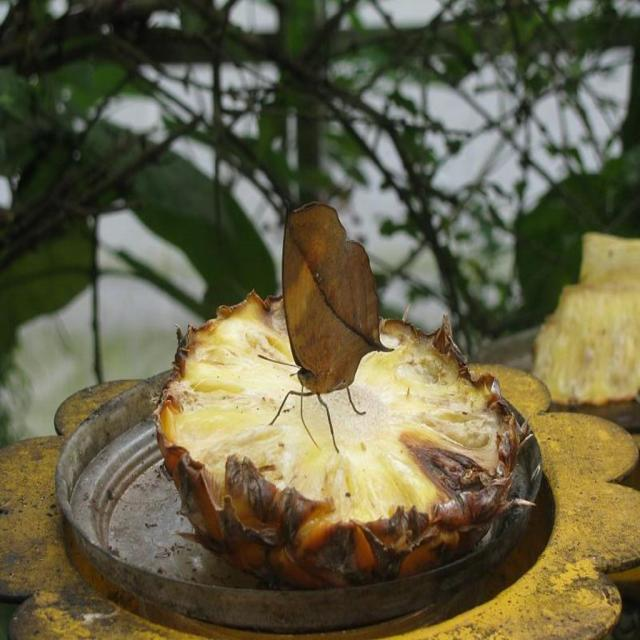Pineapple: (154, 285, 534, 591)
